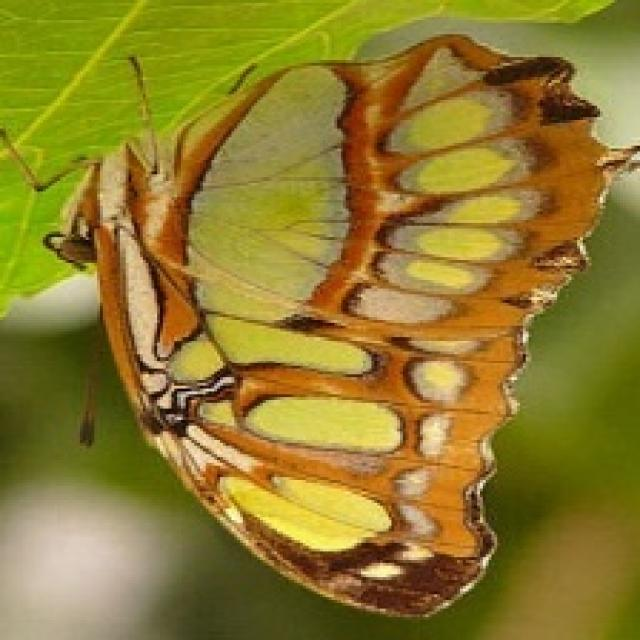butterfly: (0, 31, 637, 620)
